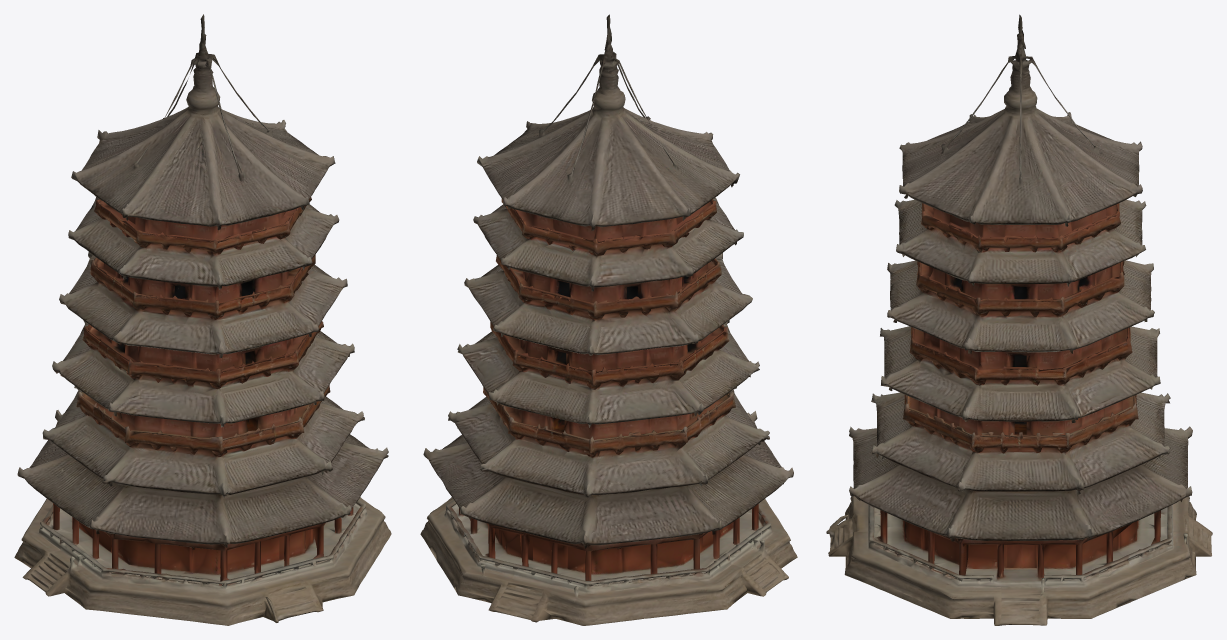
Rendered from building-yingxian.glb.
3 views of the same model, side by side, from view 1: azimuth 30°, elevation 25°; view 2: azimuth 150°, elevation 25°; view 3: azimuth 270°, elevation 25° (orthographic).
Visible parts, largest first — view 1: node_b08a187a-26e9-4218-afc2-47615e1a994d; view 2: node_b08a187a-26e9-4218-afc2-47615e1a994d; view 3: node_b08a187a-26e9-4218-afc2-47615e1a994d.
Boxes of the visible parts, x1,y1,x2,y2 form: node_b08a187a-26e9-4218-afc2-47615e1a994d: (14,14,391,625); node_b08a187a-26e9-4218-afc2-47615e1a994d: (420,14,797,625); node_b08a187a-26e9-4218-afc2-47615e1a994d: (826,14,1212,625).
Bounding box in the file's own units: 0.6593 × 1 × 0.66.
Materials: 1 (1 with a texture image).
